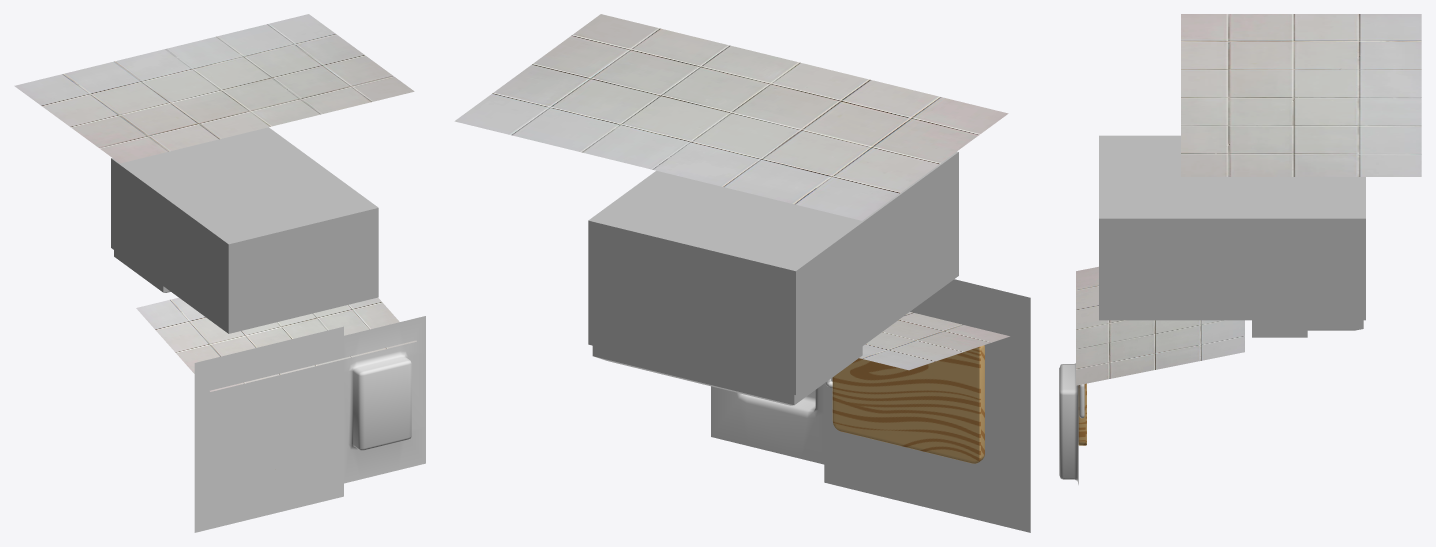
Rendered from Fridge.fbx.
3 renders of one model, left to right at view 1: azimuth 30°, elevation 25°; view 2: azimuth 150°, elevation 25°; view 3: azimuth 270°, elevation 25°, orthographic. The views are drawn at different scales.
Visible parts, largest first — view 1: Fridge, tile.001, Plane, Plane.001, tile; view 2: Fridge, tile.001, Plane, CuttingBoard, Plane.001, tile, door; view 3: Fridge, tile.001, tile, Plane.001, door.
Part boxes in pixels (x1,y1,x2,y2): Fridge: (111,127,378,333); tile.001: (14,14,414,163); Plane: (194,326,343,532); Plane.001: (344,316,425,483); tile: (136,297,416,391); Fridge: (588,151,958,394); tile.001: (454,14,1008,220); Plane: (824,279,1030,532); CuttingBoard: (832,345,984,463); Plane.001: (711,384,824,464); tile: (859,312,1009,370); door: (592,346,862,405); Fridge: (1099,135,1365,320); tile.001: (1181,14,1421,176); tile: (1076,266,1244,385); Plane.001: (1059,363,1078,484); door: (1252,320,1363,337).
Size of the model in its own units: 2755 by 3067 by 2585.
